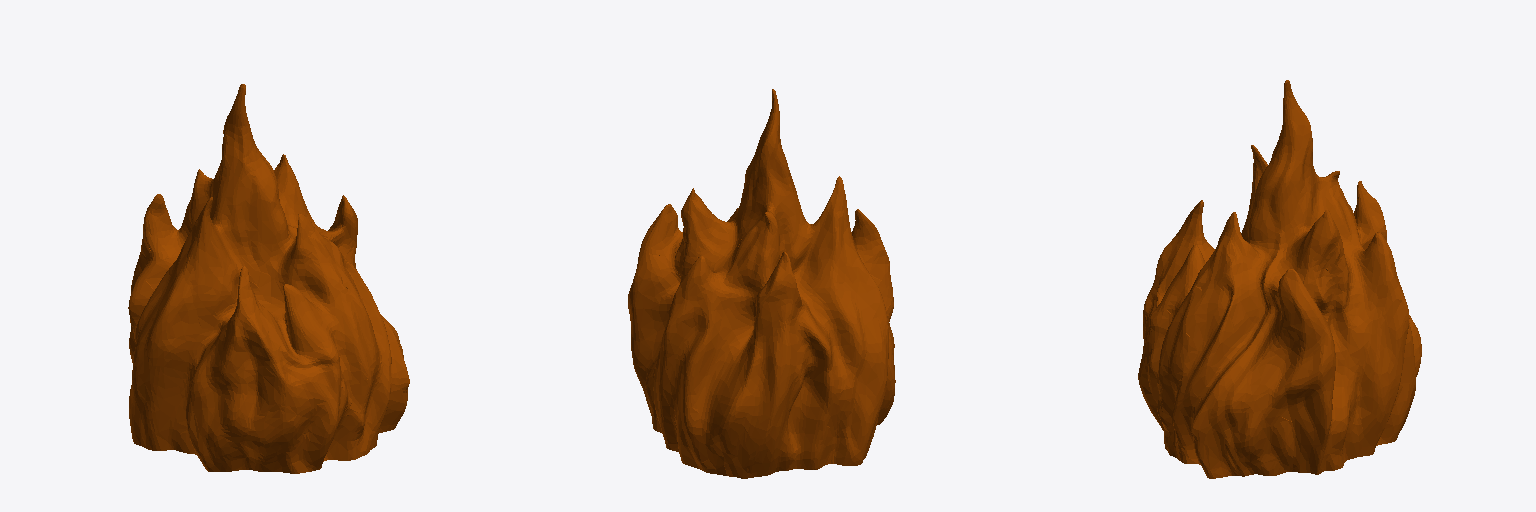
File: Flame.obj
3 views of the same model, side by side, from view 1: azimuth 30°, elevation 25°; view 2: azimuth 150°, elevation 25°; view 3: azimuth 270°, elevation 25° (orthographic).
Visible parts, largest first — view 1: YELLOW-flame-tree-top.001; view 2: YELLOW-flame-tree-top.001; view 3: YELLOW-flame-tree-top.001.
Boxes of the visible parts, x1,y1,x2,y2 form: YELLOW-flame-tree-top.001: [128, 84, 409, 473]; YELLOW-flame-tree-top.001: [628, 89, 895, 478]; YELLOW-flame-tree-top.001: [1138, 80, 1421, 478].
Bounding box in the file's own units: 1.11 × 1.52 × 1.13.